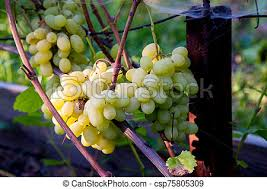grapes: (129, 43, 204, 141), (58, 70, 131, 154), (28, 6, 82, 73)
